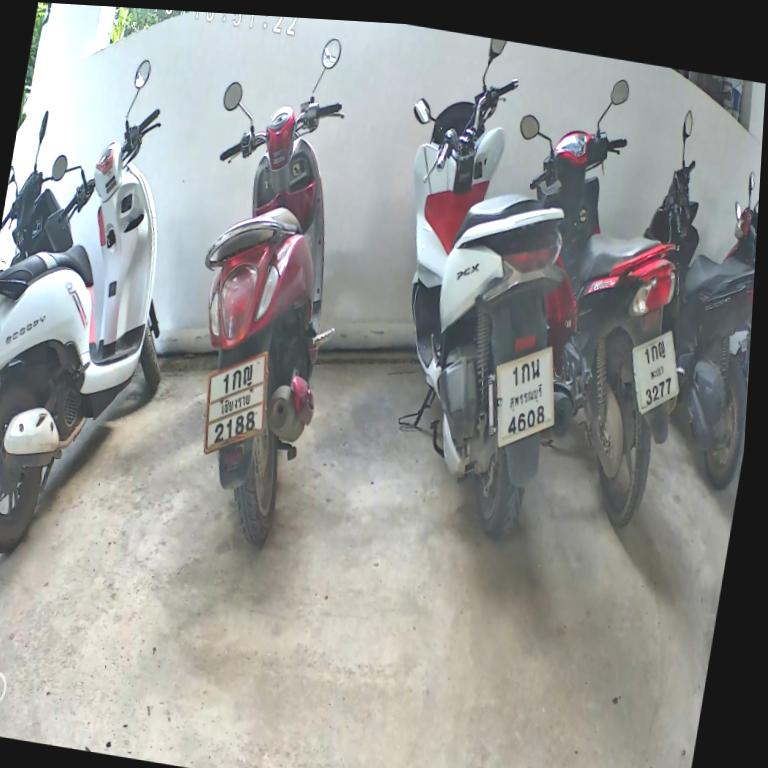license plate: (187, 334, 286, 474), (478, 327, 574, 466), (618, 312, 695, 429)
